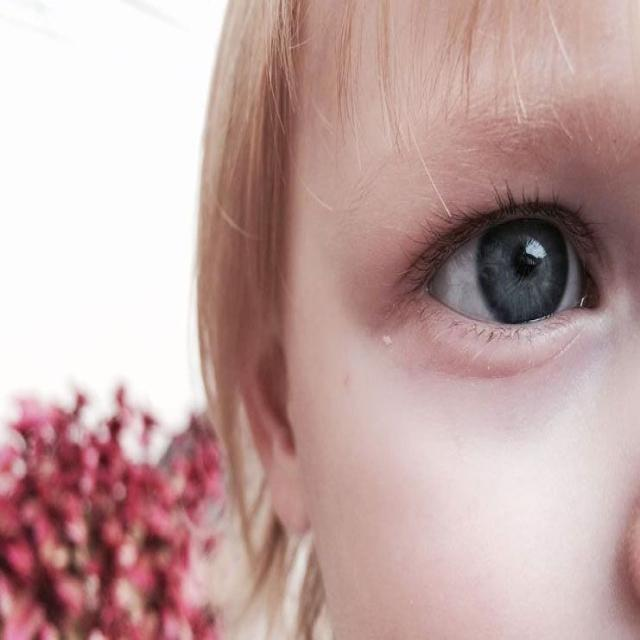Normal: (356, 143, 634, 380)
